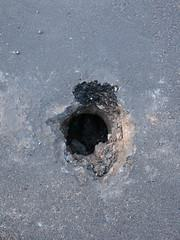Spalling: (45, 80, 127, 178)
